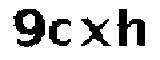9: (8, 4, 45, 51)
c: (46, 15, 74, 49)
h: (115, 6, 148, 54)
x: (80, 15, 111, 48)
